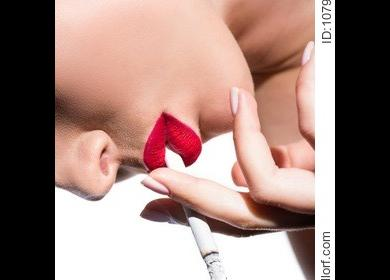Cigarette: (163, 148, 226, 280)
